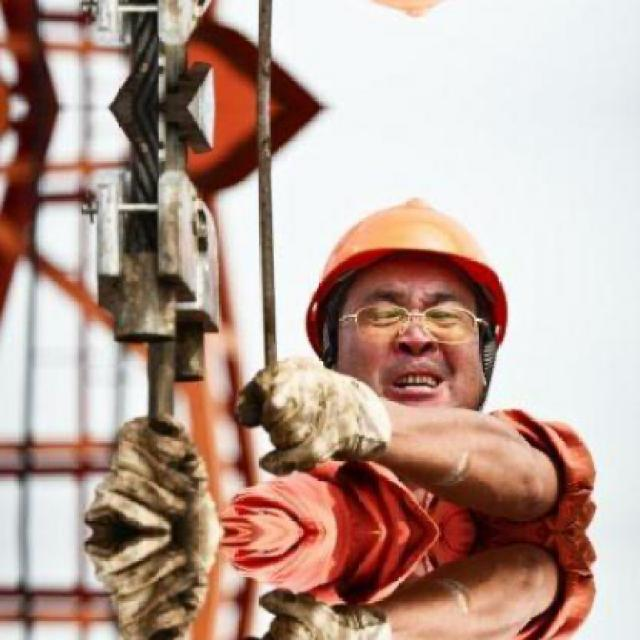helmet: (283, 160, 534, 442)
